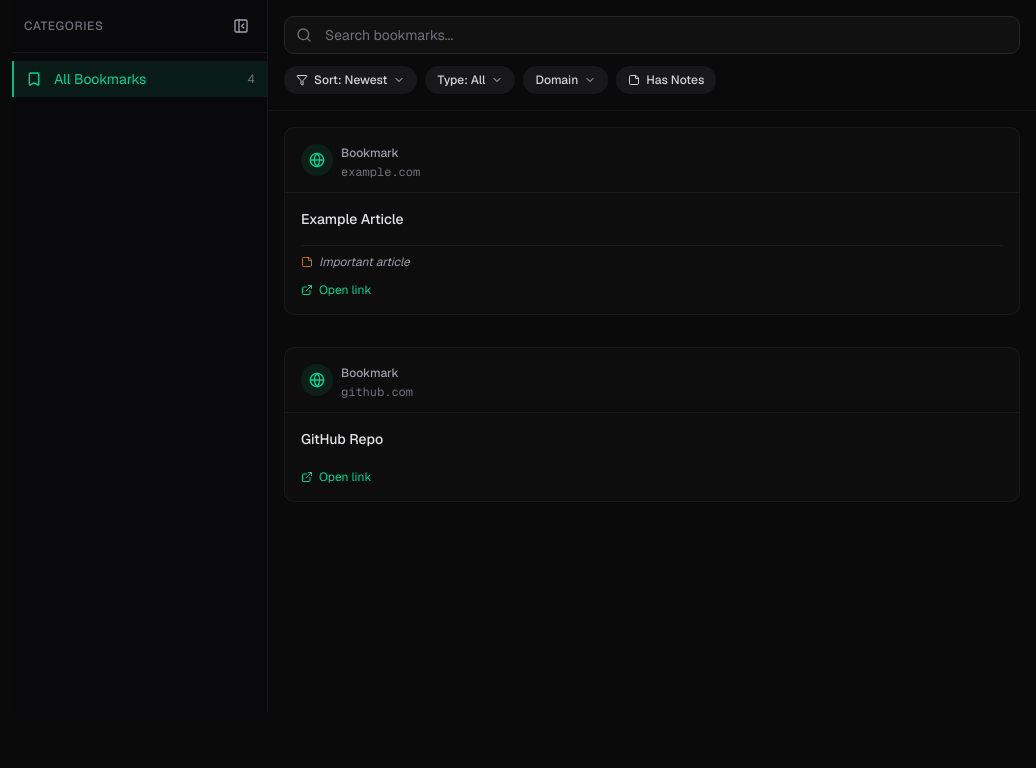
Test: BrowseContent › Filter chips and dropdowns › Domain multi-select › clicking domain filter shows unique domains from bookmarks
Click the button "Domain". click: (566, 80)
box: [523,66,608,94]
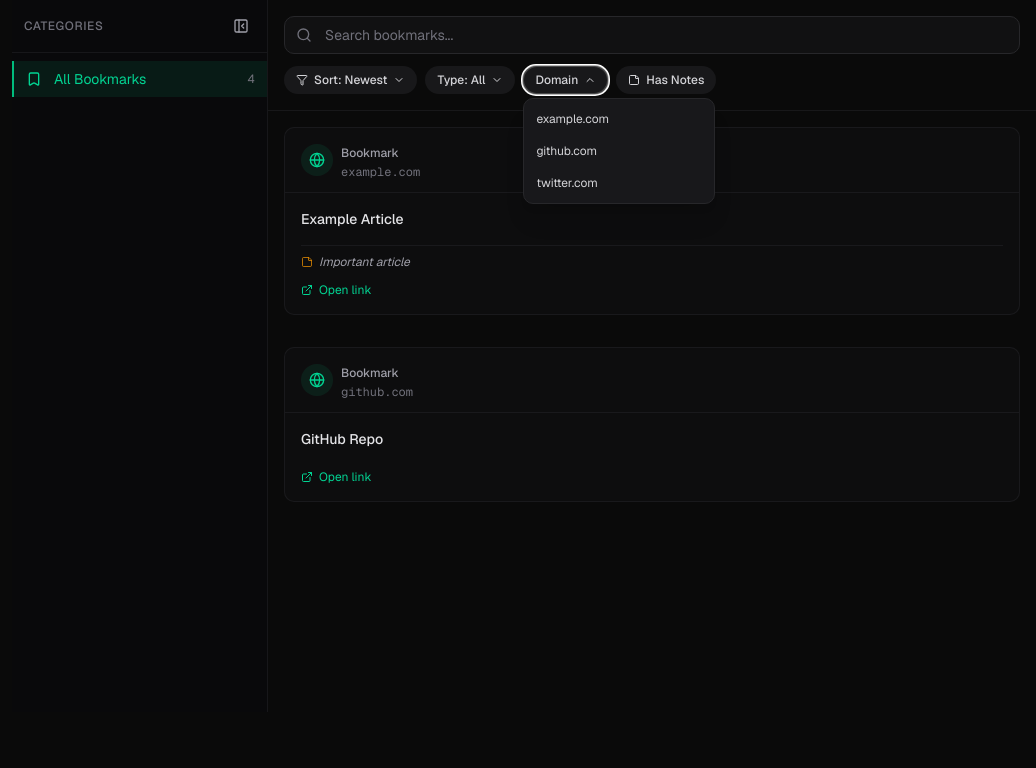
expect the option "twitter.com" is shown: met, box [524,167,714,199]
expect the option "github.com" is shown: met, box [524,135,714,167]
expect the option "example.com" is shown: met, box [524,103,714,135]
